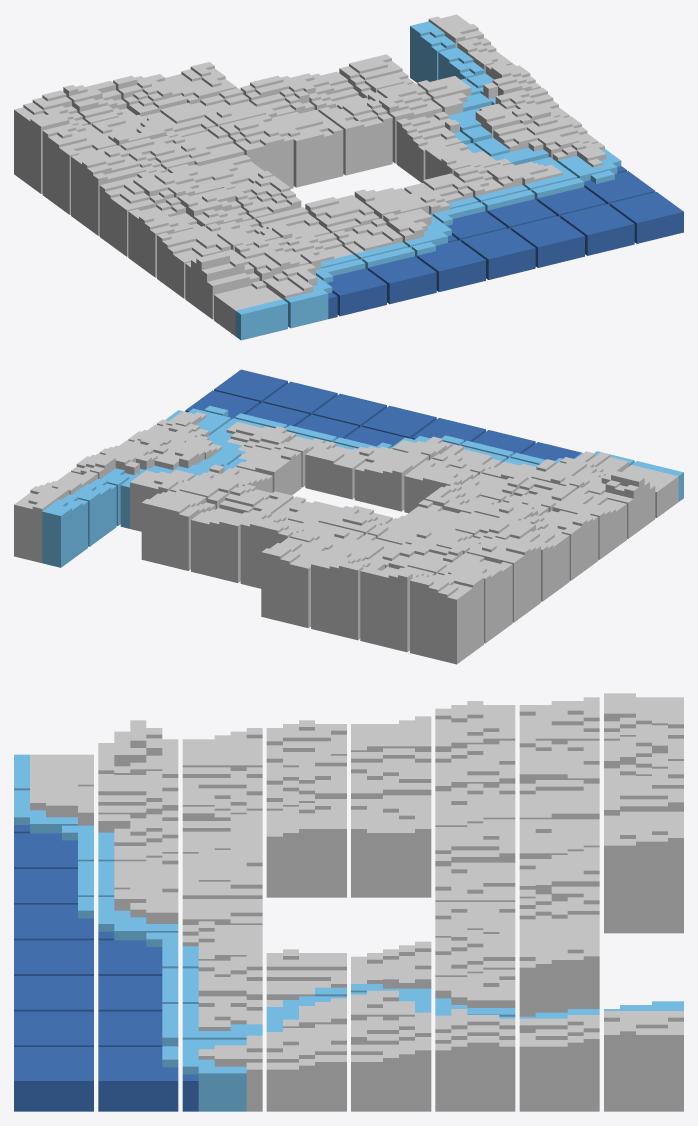
File: context_lower_right.glb
3 renders of one model, top to bottom at view 1: azimuth 30°, elevation 25°; view 2: azimuth 150°, elevation 25°; view 3: azimuth 270°, elevation 25°, orthographic. The views are drawn at different scales.
Visible parts, largest first — view 1: ctx_lower_right; view 2: ctx_lower_right; view 3: ctx_lower_right.
Part boxes in pixels (x1=…): ctx_lower_right: x1=14, y1=14, x2=683, y2=340; ctx_lower_right: x1=14, y1=369, x2=683, y2=664; ctx_lower_right: x1=14, y1=693, x2=683, y2=1111.
Size of the model in its own units: 89.5 by 14.5 by 79.5.
